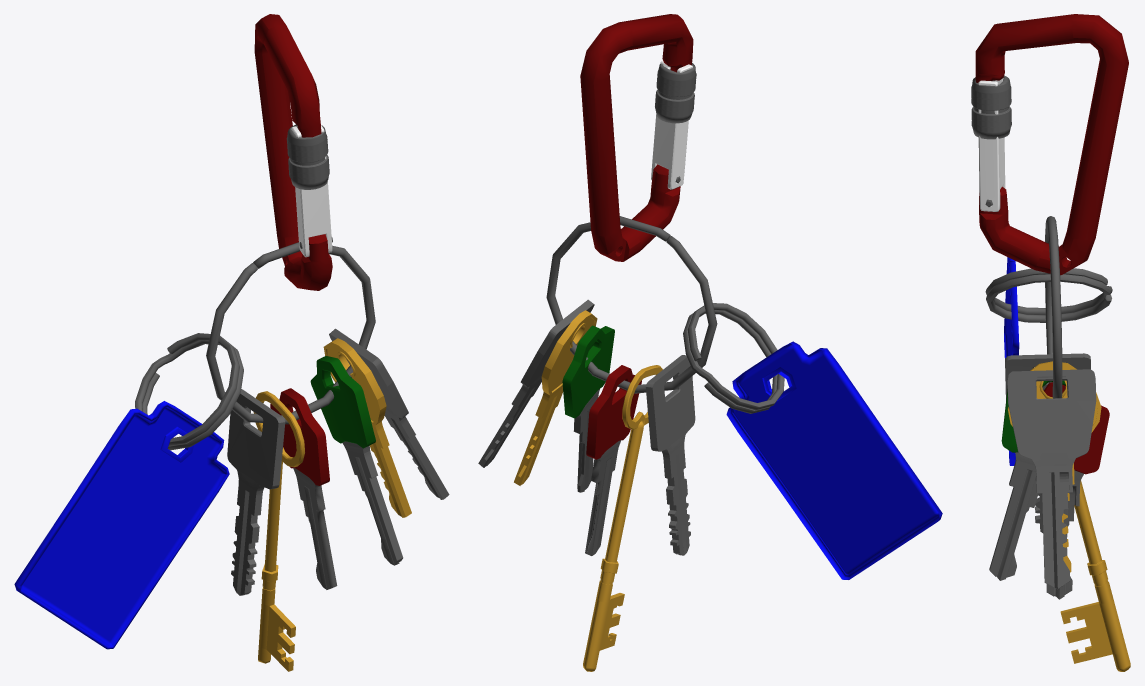
The model's file is Keys.fbx.
3 views of the same model, side by side, from view 1: azimuth 30°, elevation 25°; view 2: azimuth 150°, elevation 25°; view 3: azimuth 270°, elevation 25° (orthographic). The views are drawn at different scales.
Parts seen in each view (by area): view 1: group9_Key_in_GRP_Key_ALL_GRP_KEY100, group9_Key_in_GRP_Key_ALL_GRP_KEY94, group9_Key_in_GRP_Key_ALL_GRP_KEY146, group9_Key_in_GRP_Key_ALL_GRP_KEY138, group9_Key_in_GRP_Key_ALL_GRP_KEY131, group9_Key_in_GRP_Key_ALL_GRP_KEY140, group9_Key_in_GRP_Key_ALL_GRP_KEY150, group9_Key_in_GRP_Key_ALL_GRP_KEY104, group9_Key_in_GRP_Key_ALL_GRP_KEY141, group9_Key_in_GRP_Key_ALL_GRP_KEY152, group9_Key_in_GRP_Key_ALL_GRP_KEY142, group9_Key_in_GRP_Key_ALL_GRP_KEY125 (+2 smaller); view 2: group9_Key_in_GRP_Key_ALL_GRP_KEY100, group9_Key_in_GRP_Key_ALL_GRP_KEY94, group9_Key_in_GRP_Key_ALL_GRP_KEY146, group9_Key_in_GRP_Key_ALL_GRP_KEY138, group9_Key_in_GRP_Key_ALL_GRP_KEY131, group9_Key_in_GRP_Key_ALL_GRP_KEY150, group9_Key_in_GRP_Key_ALL_GRP_KEY104, group9_Key_in_GRP_Key_ALL_GRP_KEY140, group9_Key_in_GRP_Key_ALL_GRP_KEY152, group9_Key_in_GRP_Key_ALL_GRP_KEY141, group9_Key_in_GRP_Key_ALL_GRP_KEY125, group9_Key_in_GRP_Key_ALL_GRP_KEY119 (+2 smaller); view 3: group9_Key_in_GRP_Key_ALL_GRP_KEY94, group9_Key_in_GRP_Key_ALL_GRP_KEY141, group9_Key_in_GRP_Key_ALL_GRP_KEY138, group9_Key_in_GRP_Key_ALL_GRP_KEY104, group9_Key_in_GRP_Key_ALL_GRP_KEY142, group9_Key_in_GRP_Key_ALL_GRP_KEY131, group9_Key_in_GRP_Key_ALL_GRP_KEY125, group9_Key_in_GRP_Key_ALL_GRP_KEY119, group9_Key_in_GRP_Key_ALL_GRP_KEY146, group9_Key_in_GRP_Key_ALL_GRP_KEY152, group9_Key_in_GRP_Key_ALL_GRP_KEY100, group9_Key_in_GRP_Key_ALL_GRP_KEY150 (+2 smaller).
Part boxes in pixels (x1=…): group9_Key_in_GRP_Key_ALL_GRP_KEY100: x1=14, y1=401, x2=229, y2=649; group9_Key_in_GRP_Key_ALL_GRP_KEY94: x1=254, y1=14, x2=332, y2=290; group9_Key_in_GRP_Key_ALL_GRP_KEY146: x1=227, y1=389, x2=285, y2=595; group9_Key_in_GRP_Key_ALL_GRP_KEY138: x1=253, y1=391, x2=304, y2=671; group9_Key_in_GRP_Key_ALL_GRP_KEY131: x1=206, y1=242, x2=375, y2=424; group9_Key_in_GRP_Key_ALL_GRP_KEY140: x1=310, y1=356, x2=375, y2=448; group9_Key_in_GRP_Key_ALL_GRP_KEY150: x1=323, y1=338, x2=411, y2=517; group9_Key_in_GRP_Key_ALL_GRP_KEY104: x1=135, y1=333, x2=243, y2=450; group9_Key_in_GRP_Key_ALL_GRP_KEY141: x1=329, y1=328, x2=449, y2=499; group9_Key_in_GRP_Key_ALL_GRP_KEY152: x1=270, y1=388, x2=329, y2=485; group9_Key_in_GRP_Key_ALL_GRP_KEY142: x1=342, y1=441, x2=403, y2=565; group9_Key_in_GRP_Key_ALL_GRP_KEY125: x1=286, y1=124, x2=329, y2=189; group9_Key_in_GRP_Key_ALL_GRP_KEY100: x1=726, y1=341, x2=942, y2=579; group9_Key_in_GRP_Key_ALL_GRP_KEY94: x1=580, y1=14, x2=693, y2=261; group9_Key_in_GRP_Key_ALL_GRP_KEY146: x1=645, y1=355, x2=695, y2=555; group9_Key_in_GRP_Key_ALL_GRP_KEY138: x1=583, y1=365, x2=662, y2=671; group9_Key_in_GRP_Key_ALL_GRP_KEY131: x1=546, y1=216, x2=717, y2=393; group9_Key_in_GRP_Key_ALL_GRP_KEY150: x1=514, y1=310, x2=597, y2=485; group9_Key_in_GRP_Key_ALL_GRP_KEY104: x1=683, y1=303, x2=784, y2=413; group9_Key_in_GRP_Key_ALL_GRP_KEY140: x1=562, y1=325, x2=614, y2=418; group9_Key_in_GRP_Key_ALL_GRP_KEY152: x1=586, y1=365, x2=641, y2=459; group9_Key_in_GRP_Key_ALL_GRP_KEY141: x1=478, y1=299, x2=594, y2=467; group9_Key_in_GRP_Key_ALL_GRP_KEY125: x1=655, y1=63, x2=696, y2=123; group9_Key_in_GRP_Key_ALL_GRP_KEY119: x1=651, y1=60, x2=692, y2=189; group9_Key_in_GRP_Key_ALL_GRP_KEY94: x1=975, y1=14, x2=1128, y2=275; group9_Key_in_GRP_Key_ALL_GRP_KEY141: x1=1007, y1=369, x2=1096, y2=589; group9_Key_in_GRP_Key_ALL_GRP_KEY138: x1=1060, y1=480, x2=1130, y2=671; group9_Key_in_GRP_Key_ALL_GRP_KEY104: x1=985, y1=268, x2=1112, y2=322; group9_Key_in_GRP_Key_ALL_GRP_KEY142: x1=989, y1=452, x2=1041, y2=580; group9_Key_in_GRP_Key_ALL_GRP_KEY131: x1=1045, y1=216, x2=1062, y2=398; group9_Key_in_GRP_Key_ALL_GRP_KEY125: x1=971, y1=75, x2=1011, y2=139; group9_Key_in_GRP_Key_ALL_GRP_KEY119: x1=978, y1=78, x2=1005, y2=211; group9_Key_in_GRP_Key_ALL_GRP_KEY146: x1=1005, y1=353, x2=1090, y2=532; group9_Key_in_GRP_Key_ALL_GRP_KEY152: x1=1044, y1=382, x2=1109, y2=474; group9_Key_in_GRP_Key_ALL_GRP_KEY100: x1=1004, y1=257, x2=1019, y2=465; group9_Key_in_GRP_Key_ALL_GRP_KEY150: x1=1007, y1=361, x2=1101, y2=572.
Bounding box in the file's own units: 5.06 × 1.56 × 7.01.
